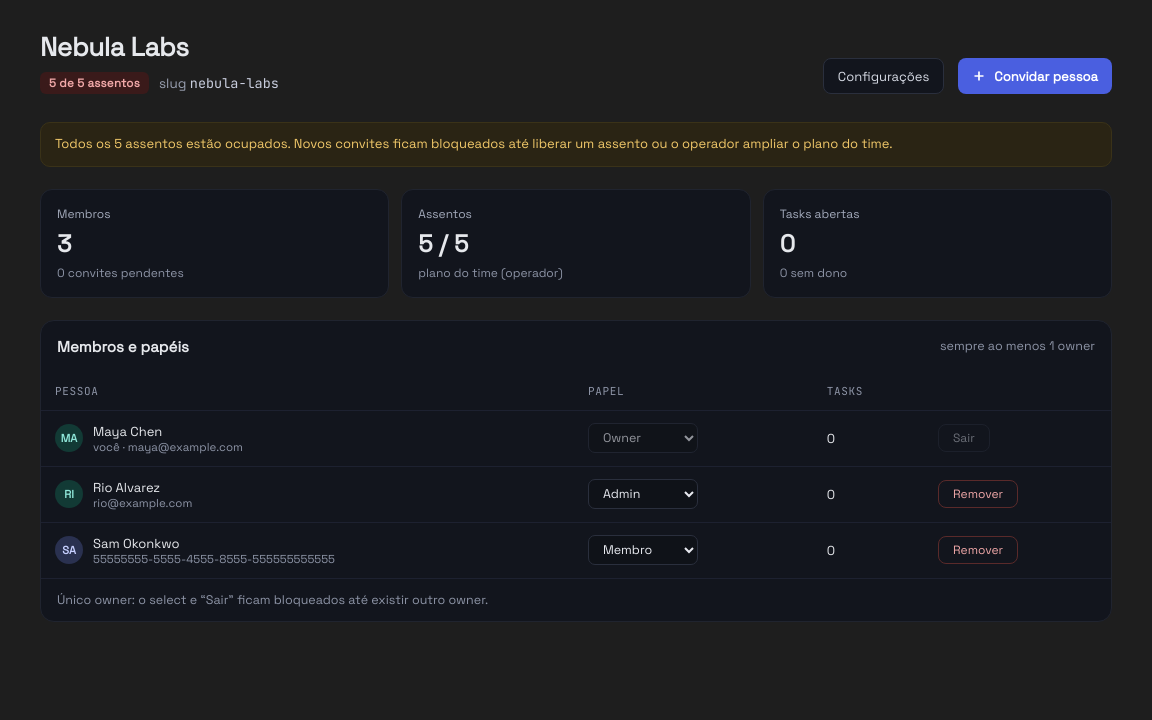
Test: TeamPage overview: header, seats, members › full: red pill and the banner, and the invite opens blocked with the reason
Expected: the text "5 de 5 assentos" is shown, [40,72,149,94]
Click the button "Convidar pessoa".
click(1035, 76)  # box [958,58,1112,94]
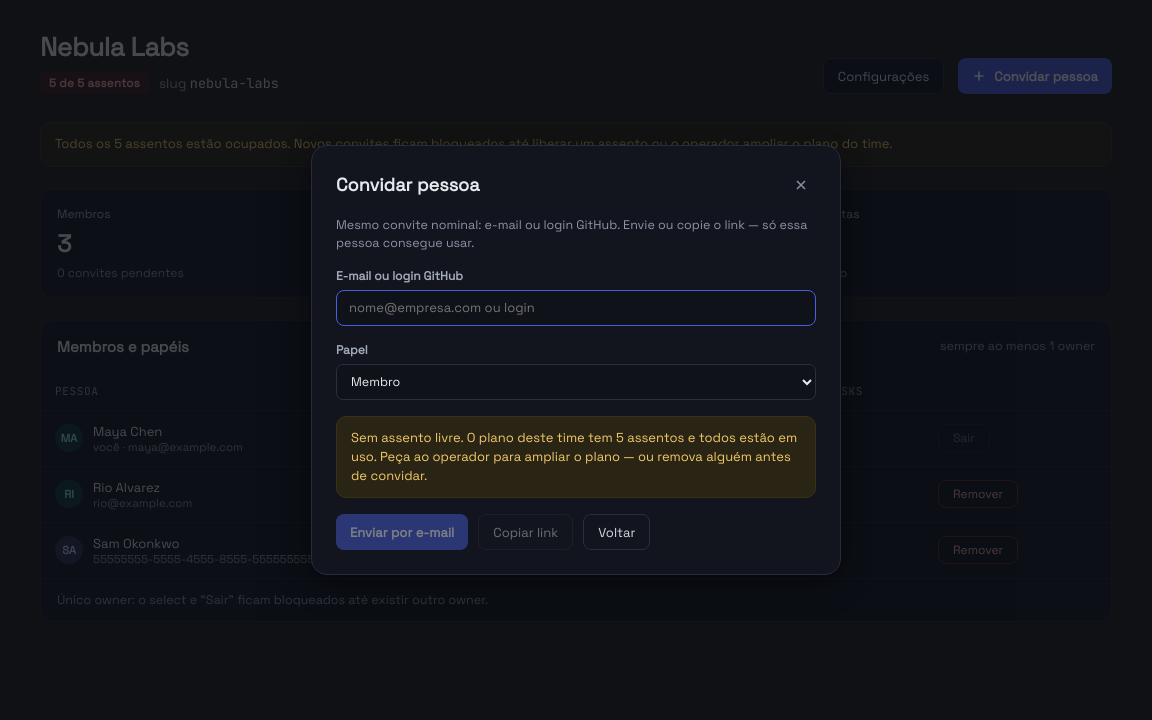
Now the button "Enviar por e-mail" is disabled, box [336,514,468,550]
Now the button "Copiar link" is disabled, box [478,514,573,550]
